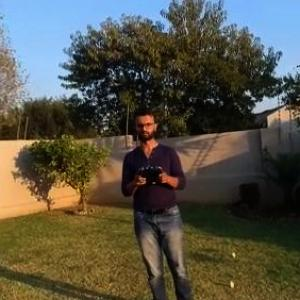follow: (117, 101, 195, 299)
